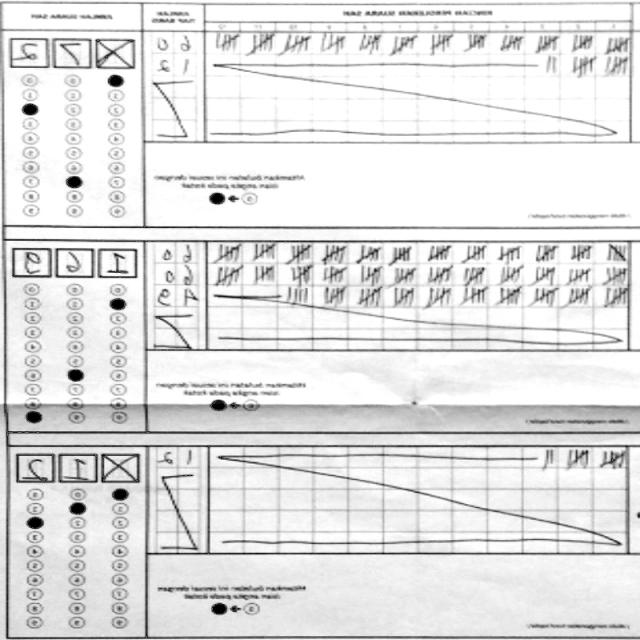Suara: (9, 242, 142, 282), (10, 448, 144, 487), (5, 33, 138, 72)
